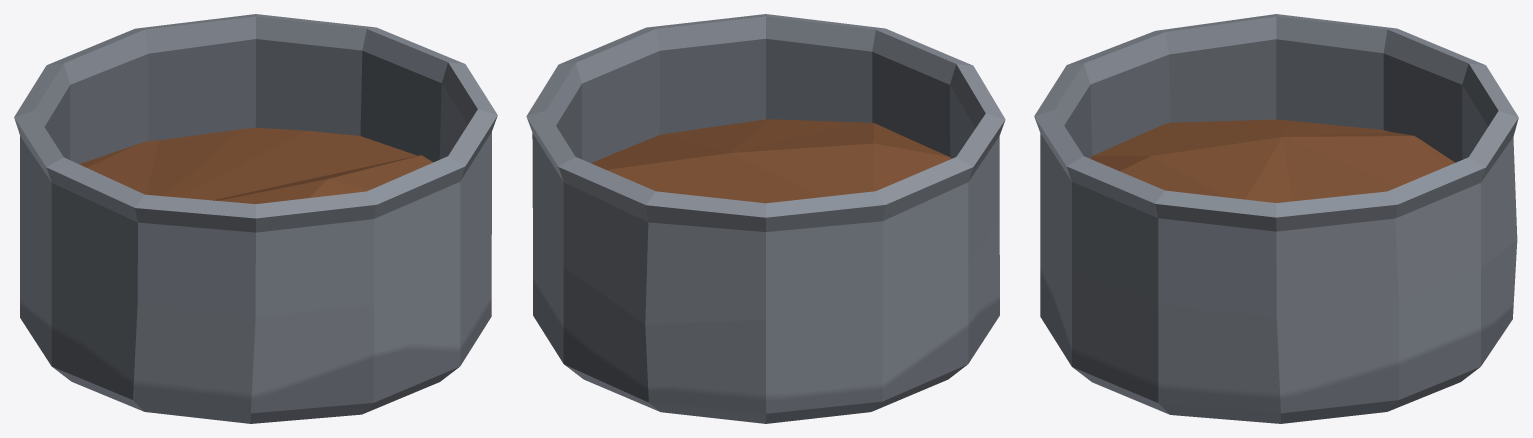
File: SM_Prop_Pot_Large_01.fbx
The picture shows the model from 3 angles, left to right: view 1: azimuth 30°, elevation 25°; view 2: azimuth 150°, elevation 25°; view 3: azimuth 270°, elevation 25°; orthographic projection.
Parts seen in each view (by area): view 1: SM_Prop_Pot_Large_01, SM_Prop_Pot_Large_Soup_01; view 2: SM_Prop_Pot_Large_01, SM_Prop_Pot_Large_Soup_01; view 3: SM_Prop_Pot_Large_01, SM_Prop_Pot_Large_Soup_01.
Part boxes in pixels (x1,y1,x2,y2): SM_Prop_Pot_Large_01: (14,14,497,423); SM_Prop_Pot_Large_Soup_01: (79,127,432,203); SM_Prop_Pot_Large_01: (526,14,1005,423); SM_Prop_Pot_Large_Soup_01: (591,119,950,203); SM_Prop_Pot_Large_01: (1034,14,1518,423); SM_Prop_Pot_Large_Soup_01: (1090,119,1454,202).
Size of the model in its own units: 130 by 67.58 by 130.
